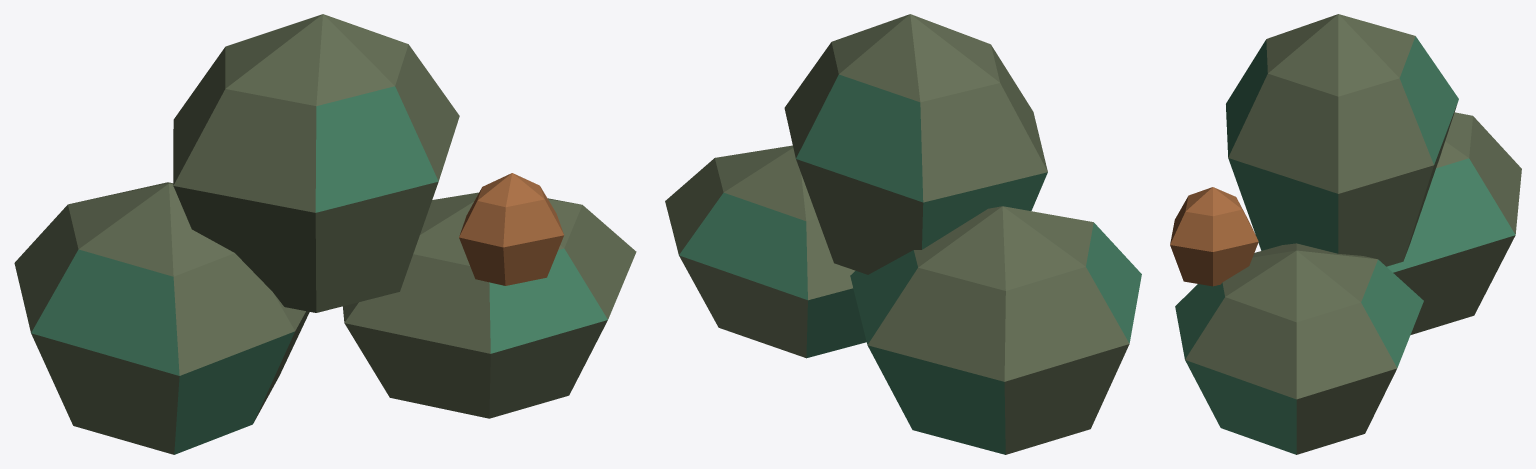
Rendered from CopperOre.gltf.
3 views of the same model, side by side, from view 1: azimuth 30°, elevation 25°; view 2: azimuth 150°, elevation 25°; view 3: azimuth 270°, elevation 25° (orthographic). The views are drawn at different scales.
Parts seen in each view (by area): view 1: CopperOre; view 2: CopperOre; view 3: CopperOre.
Part boxes in pixels (box(x1,y1,x2,y2)): CopperOre: box(14, 14, 636, 454); CopperOre: box(665, 14, 1141, 454); CopperOre: box(1170, 14, 1521, 454).
Bounding box in the file's own units: 0.4776 × 0.31 × 0.2944.
